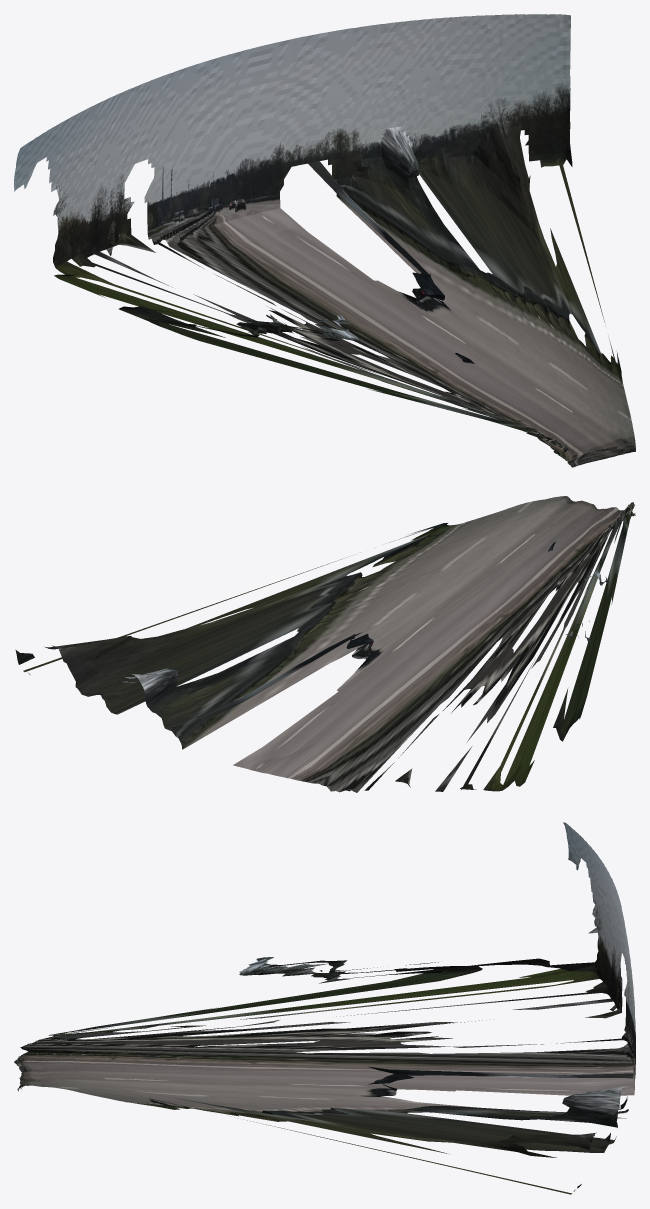
3 renders of one model, top to bottom at view 1: azimuth 30°, elevation 25°; view 2: azimuth 150°, elevation 25°; view 3: azimuth 270°, elevation 25°, orthographic. The views are drawn at different scales.
Parts seen in each view (by area): view 1: defaultobject; view 2: defaultobject; view 3: defaultobject.
Boxes of the visible parts, bbox=[...] form: defaultobject: bbox=[14, 14, 635, 467]; defaultobject: bbox=[15, 496, 635, 792]; defaultobject: bbox=[14, 822, 635, 1194].
Size of the model in its own units: 40.98 by 12.45 by 44.52.
Materials: 1 (1 with a texture image).
